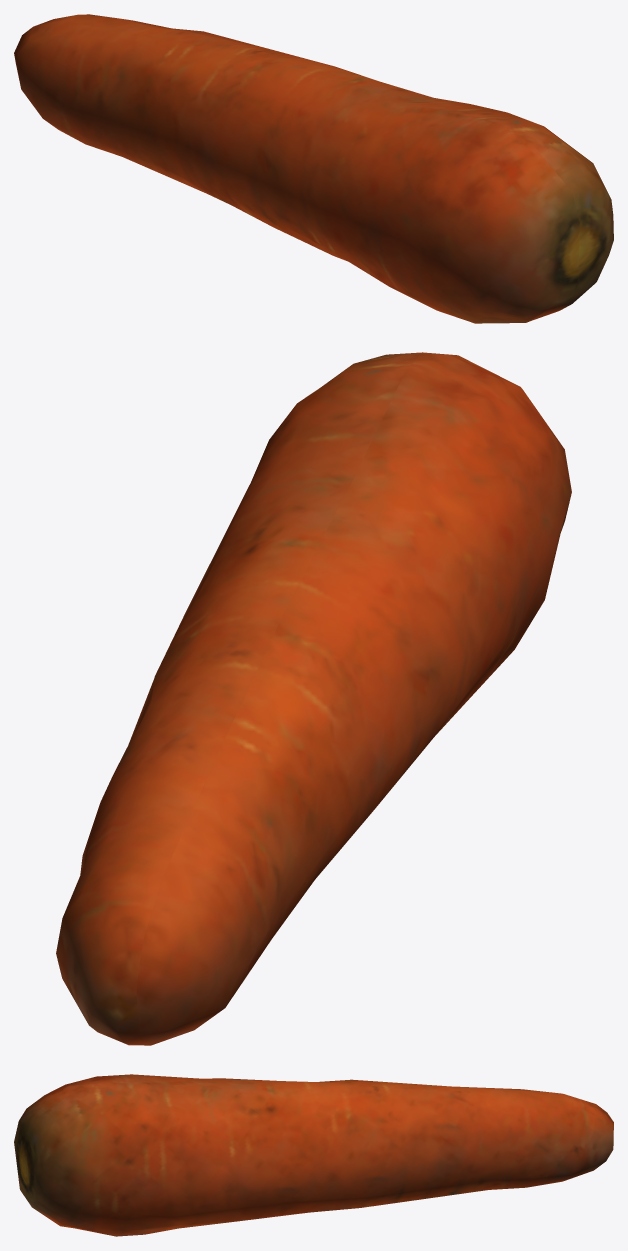
File: Carrot.obj
3 renders of one model, top to bottom at view 1: azimuth 30°, elevation 25°; view 2: azimuth 150°, elevation 25°; view 3: azimuth 270°, elevation 25°, orthographic. The views are drawn at different scales.
Parts seen in each view (by area): view 1: MDCNR80B8B40_LOD2(Clone)_Quality_20; view 2: MDCNR80B8B40_LOD2(Clone)_Quality_20; view 3: MDCNR80B8B40_LOD2(Clone)_Quality_20.
Boxes of the visible parts, bbox=[...] form: MDCNR80B8B40_LOD2(Clone)_Quality_20: bbox=[14, 14, 613, 323]; MDCNR80B8B40_LOD2(Clone)_Quality_20: bbox=[56, 352, 571, 1045]; MDCNR80B8B40_LOD2(Clone)_Quality_20: bbox=[14, 1074, 613, 1236].
Bounding box in the file's own units: 0.7182 × 0.4987 × 1.83.
